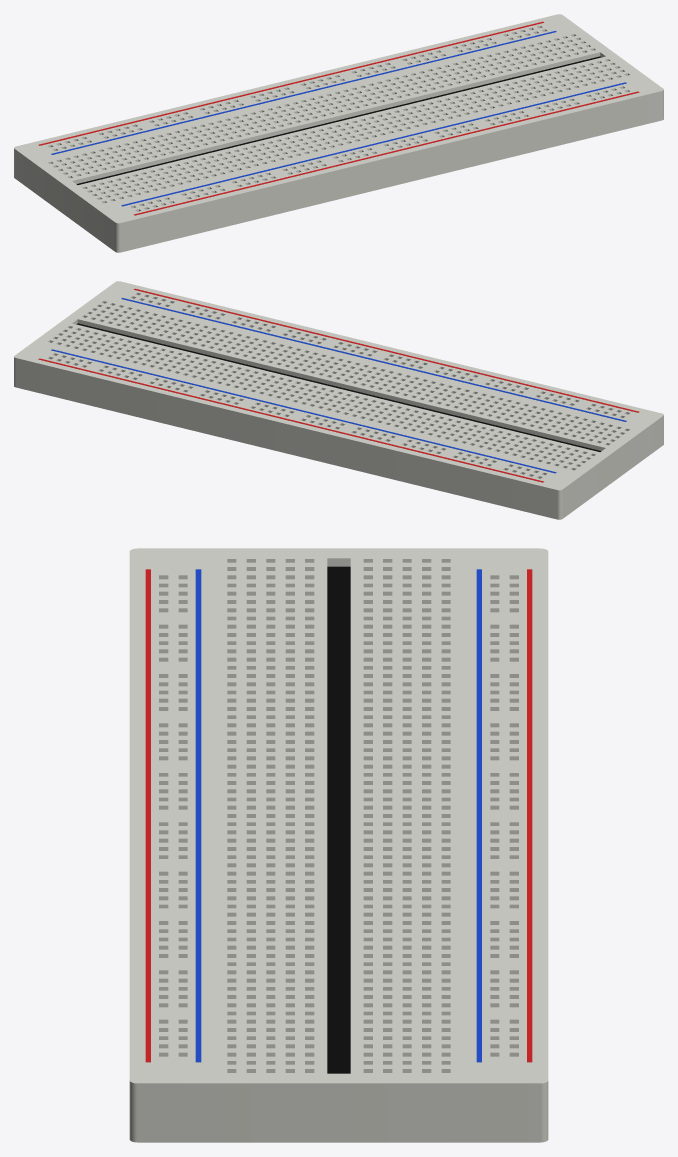
File: breadboard.glb
3 views of the same model, one above another, from view 1: azimuth 30°, elevation 25°; view 2: azimuth 150°, elevation 25°; view 3: azimuth 270°, elevation 25° (orthographic). The views are drawn at different scales.
Parts seen in each view (by area): view 1: breadboard_white_plastic, breadboard_rail_blue, breadboard_rail_red, breadboard_hole_dark; view 2: breadboard_white_plastic, breadboard_rail_blue, breadboard_rail_red, breadboard_hole_dark; view 3: breadboard_white_plastic, breadboard_hole_dark, breadboard_rail_blue, breadboard_rail_red.
Part boxes in pixels (x1,y1,x2,y2): breadboard_white_plastic: (14,14,663,252); breadboard_rail_blue: (51,31,626,206); breadboard_rail_red: (38,21,639,215); breadboard_hole_dark: (76,56,601,184); breadboard_white_plastic: (14,281,663,519); breadboard_rail_blue: (51,298,626,473); breadboard_rail_red: (38,288,639,482); breadboard_hole_dark: (76,323,601,451); breadboard_white_plastic: (129,548,548,1142); breadboard_hole_dark: (327,566,350,1073); breadboard_rail_blue: (195,569,481,1062); breadboard_rail_red: (145,569,532,1062).
Bounding box in the file's own units: 0.1651 × 0.00855 × 0.0546.
